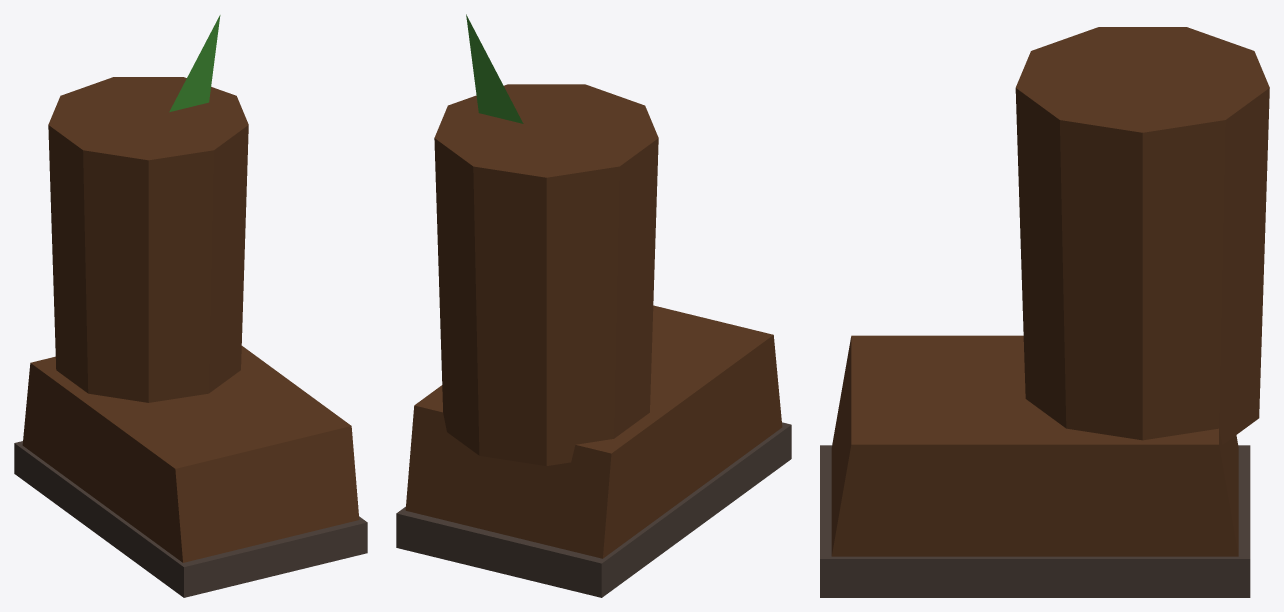
The model's file is old_boot.obj.
The picture shows the model from 3 angles, left to right: view 1: azimuth 30°, elevation 25°; view 2: azimuth 150°, elevation 25°; view 3: azimuth 270°, elevation 25°; orthographic projection. The views are drawn at different scales.
Parts seen in each view (by area): view 1: item; view 2: item; view 3: item.
Part boxes in pixels (box(x1,y1,x2,y2)): item: box(14, 15, 367, 597); item: box(396, 14, 791, 597); item: box(820, 27, 1269, 597).
Size of the model in its own units: 0.25 by 0.5866 by 0.4182.
